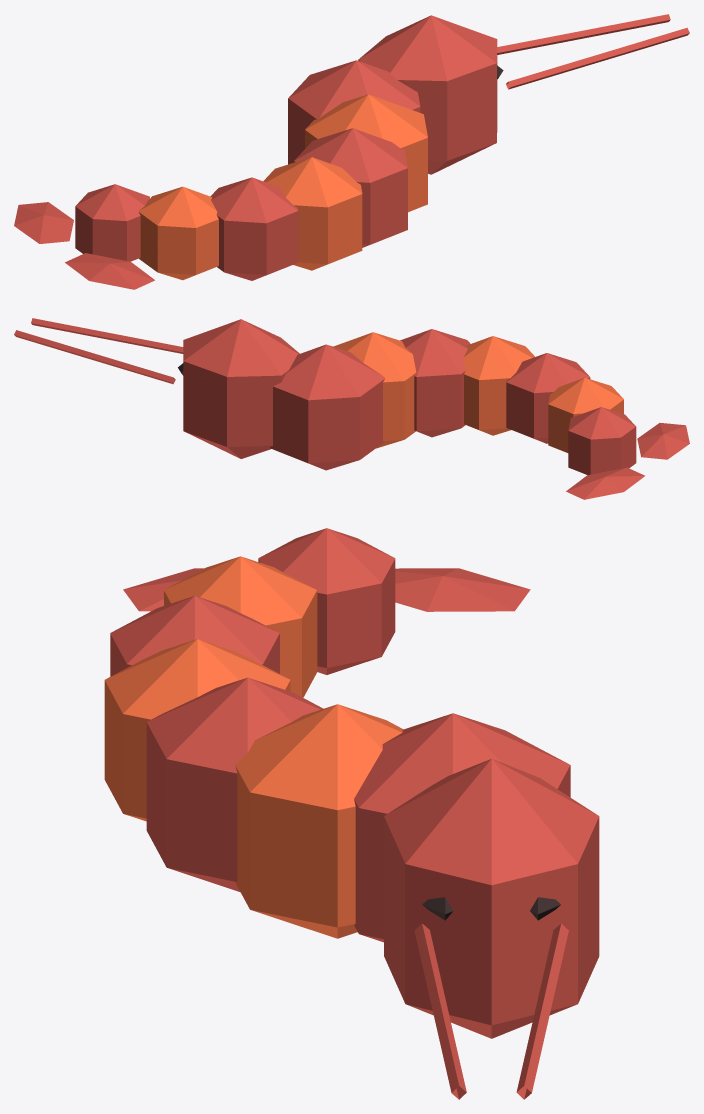
Rendered from prawn-cooked.glb.
The picture shows the model from 3 angles, top to bottom: view 1: azimuth 30°, elevation 25°; view 2: azimuth 150°, elevation 25°; view 3: azimuth 270°, elevation 25°; orthographic projection. The views are drawn at different scales.
Visible parts, largest first — view 1: prawn-cooked; view 2: prawn-cooked; view 3: prawn-cooked.
Part boxes in pixels (x1=…): prawn-cooked: x1=14, y1=14, x2=689, y2=289; prawn-cooked: x1=14, y1=318, x2=689, y2=499; prawn-cooked: x1=104, y1=528, x2=599, y2=1099.
Size of the model in its own units: 0.3536 by 0.08 by 0.128.
Materials: 1 (1 with a texture image).
